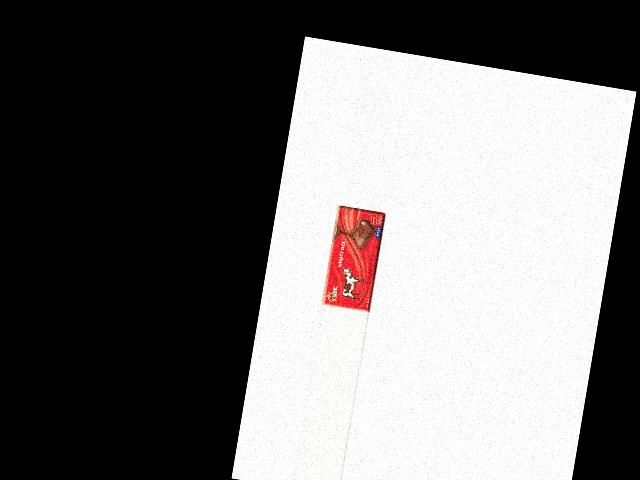chocolate: (321, 204, 385, 313)
